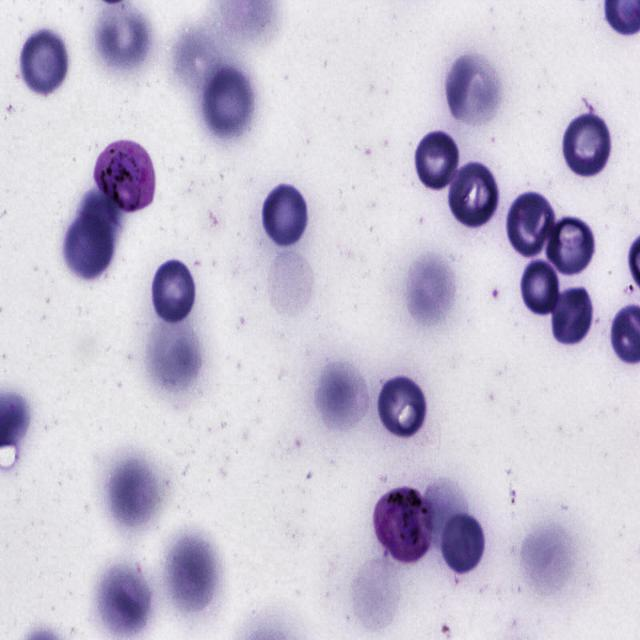difficult: (371, 482, 434, 567), (92, 138, 155, 212)
red blood cell: (206, 61, 253, 147), (62, 207, 115, 280), (17, 25, 69, 97), (543, 212, 597, 279), (507, 191, 558, 261), (448, 159, 499, 228), (436, 506, 486, 576), (260, 181, 309, 250), (562, 114, 614, 178), (149, 256, 197, 325), (412, 126, 462, 191), (376, 377, 426, 438), (550, 281, 592, 349), (519, 255, 561, 316)
